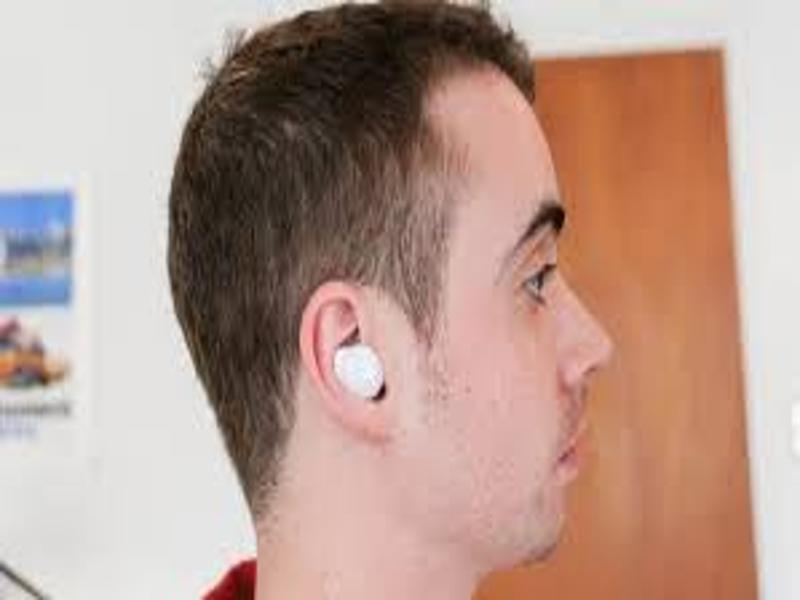headphone: (332, 343, 386, 401)
